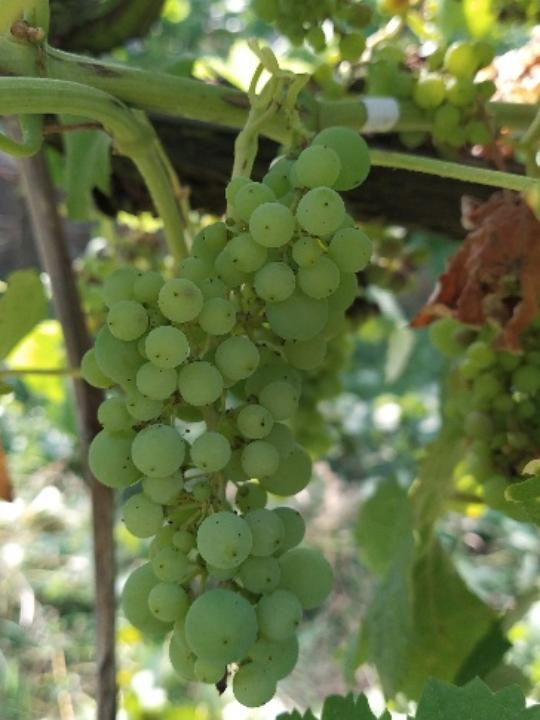grape: (82, 126, 377, 704)
